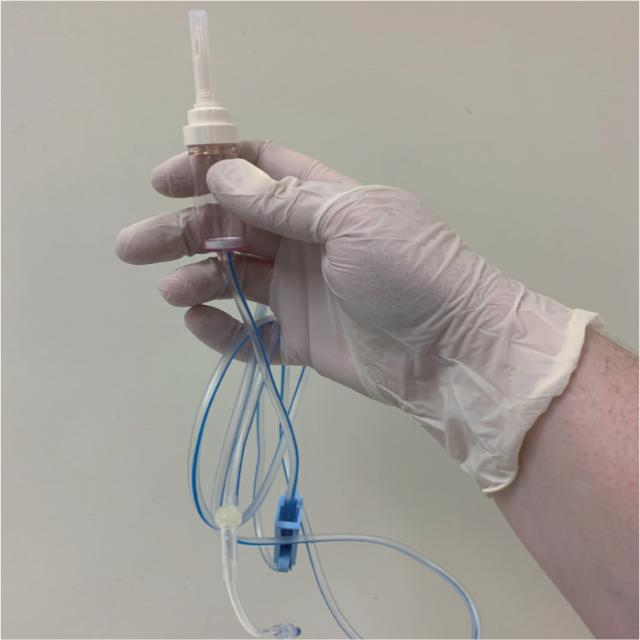B3: (109, 63, 483, 640)
